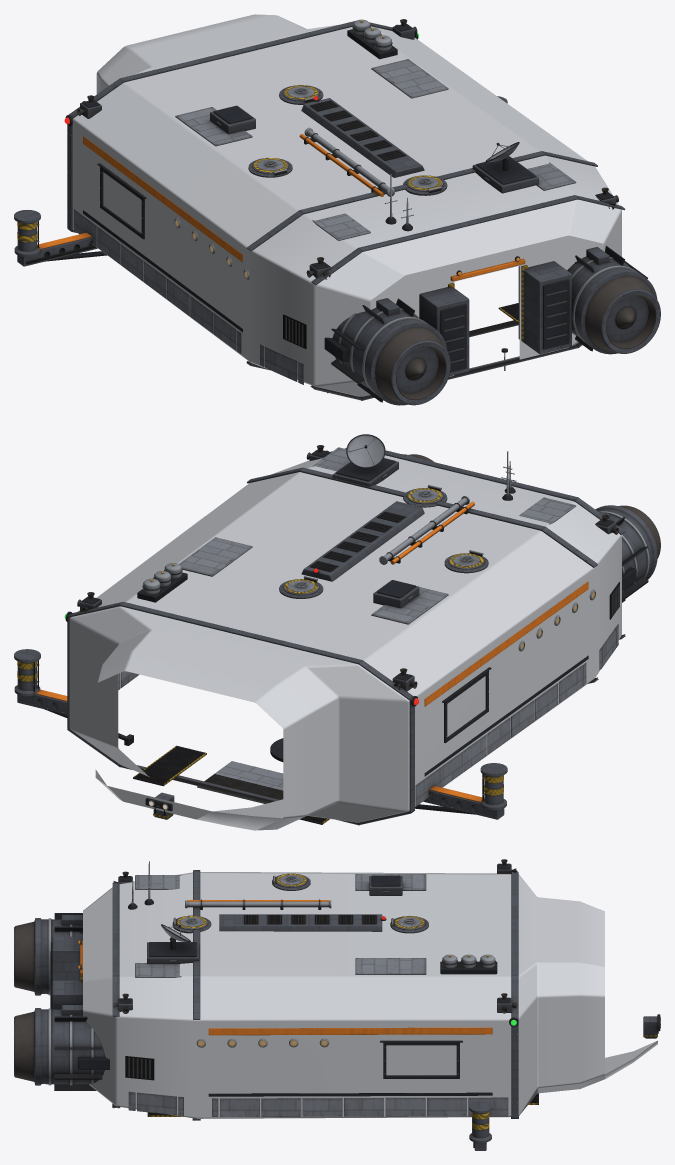
Rendered from prospector.gltf.
3 renders of one model, top to bottom at view 1: azimuth 30°, elevation 25°; view 2: azimuth 150°, elevation 25°; view 3: azimuth 270°, elevation 25°, orthographic. The views are drawn at different scales.
Visible parts, largest first — view 1: Hull, Fittings; view 2: Hull, Fittings; view 3: Hull, Fittings.
Part boxes in pixels (bbox=[...]): Hull: bbox=[72, 14, 621, 396]; Fittings: bbox=[14, 19, 660, 405]; Hull: bbox=[69, 455, 621, 830]; Fittings: bbox=[14, 434, 660, 825]; Hull: bbox=[83, 872, 657, 1118]; Fittings: bbox=[14, 859, 660, 1150].
Bounding box in the file's own units: 21 × 9.06 × 27.34.
16 materials, 15 textured.
